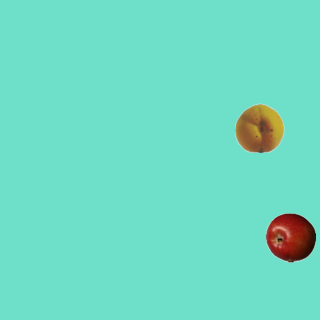Apple Braeburn: (265, 212, 315, 262)
Peach 2: (234, 102, 284, 152)
